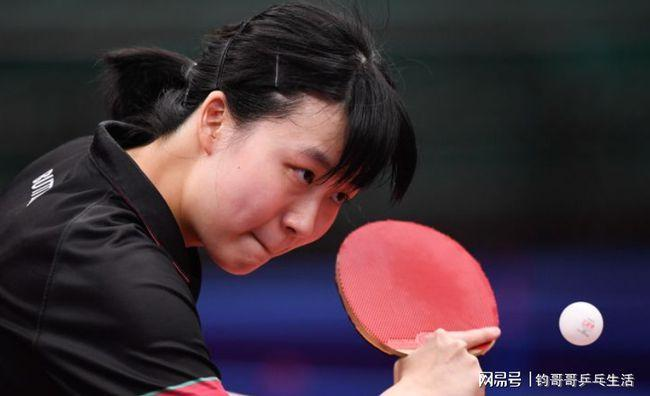ball: (553, 297, 607, 349)
